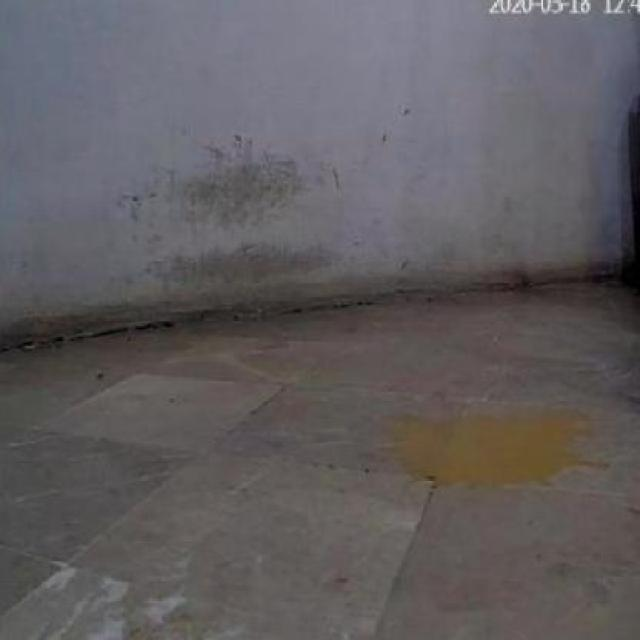spillage: (390, 412, 608, 487)
